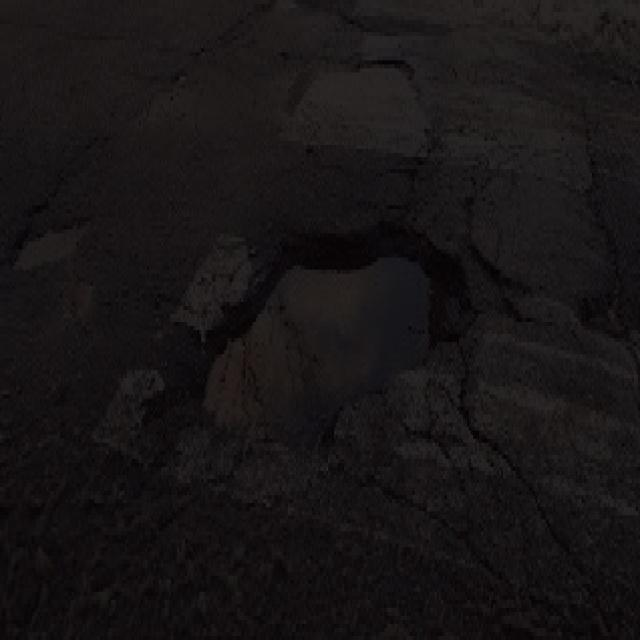Pothole: (169, 208, 476, 464), (264, 44, 447, 168), (563, 272, 640, 362), (11, 214, 98, 287)
